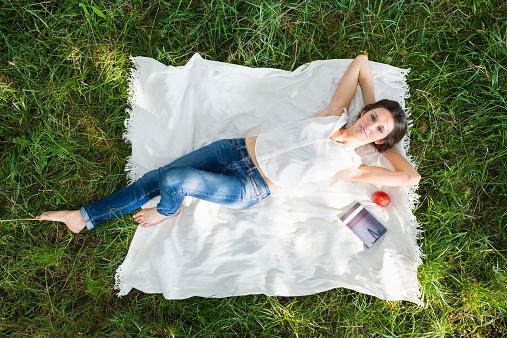deitado: (8, 65, 431, 286)
